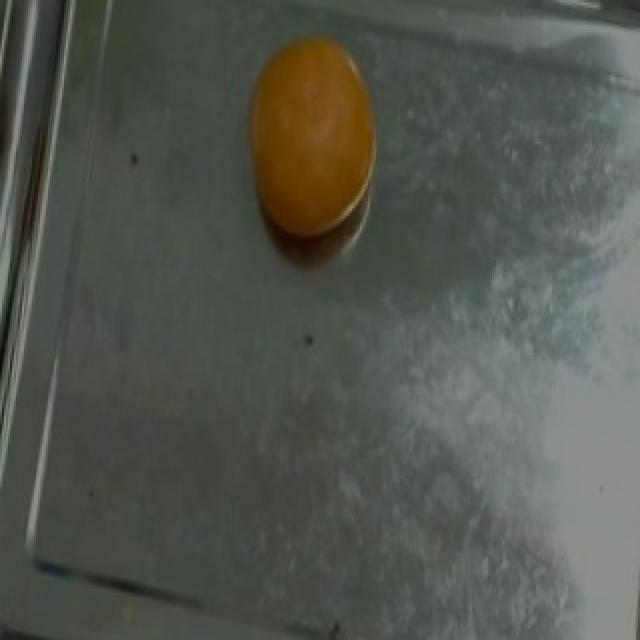Fruit: (234, 17, 398, 253)
